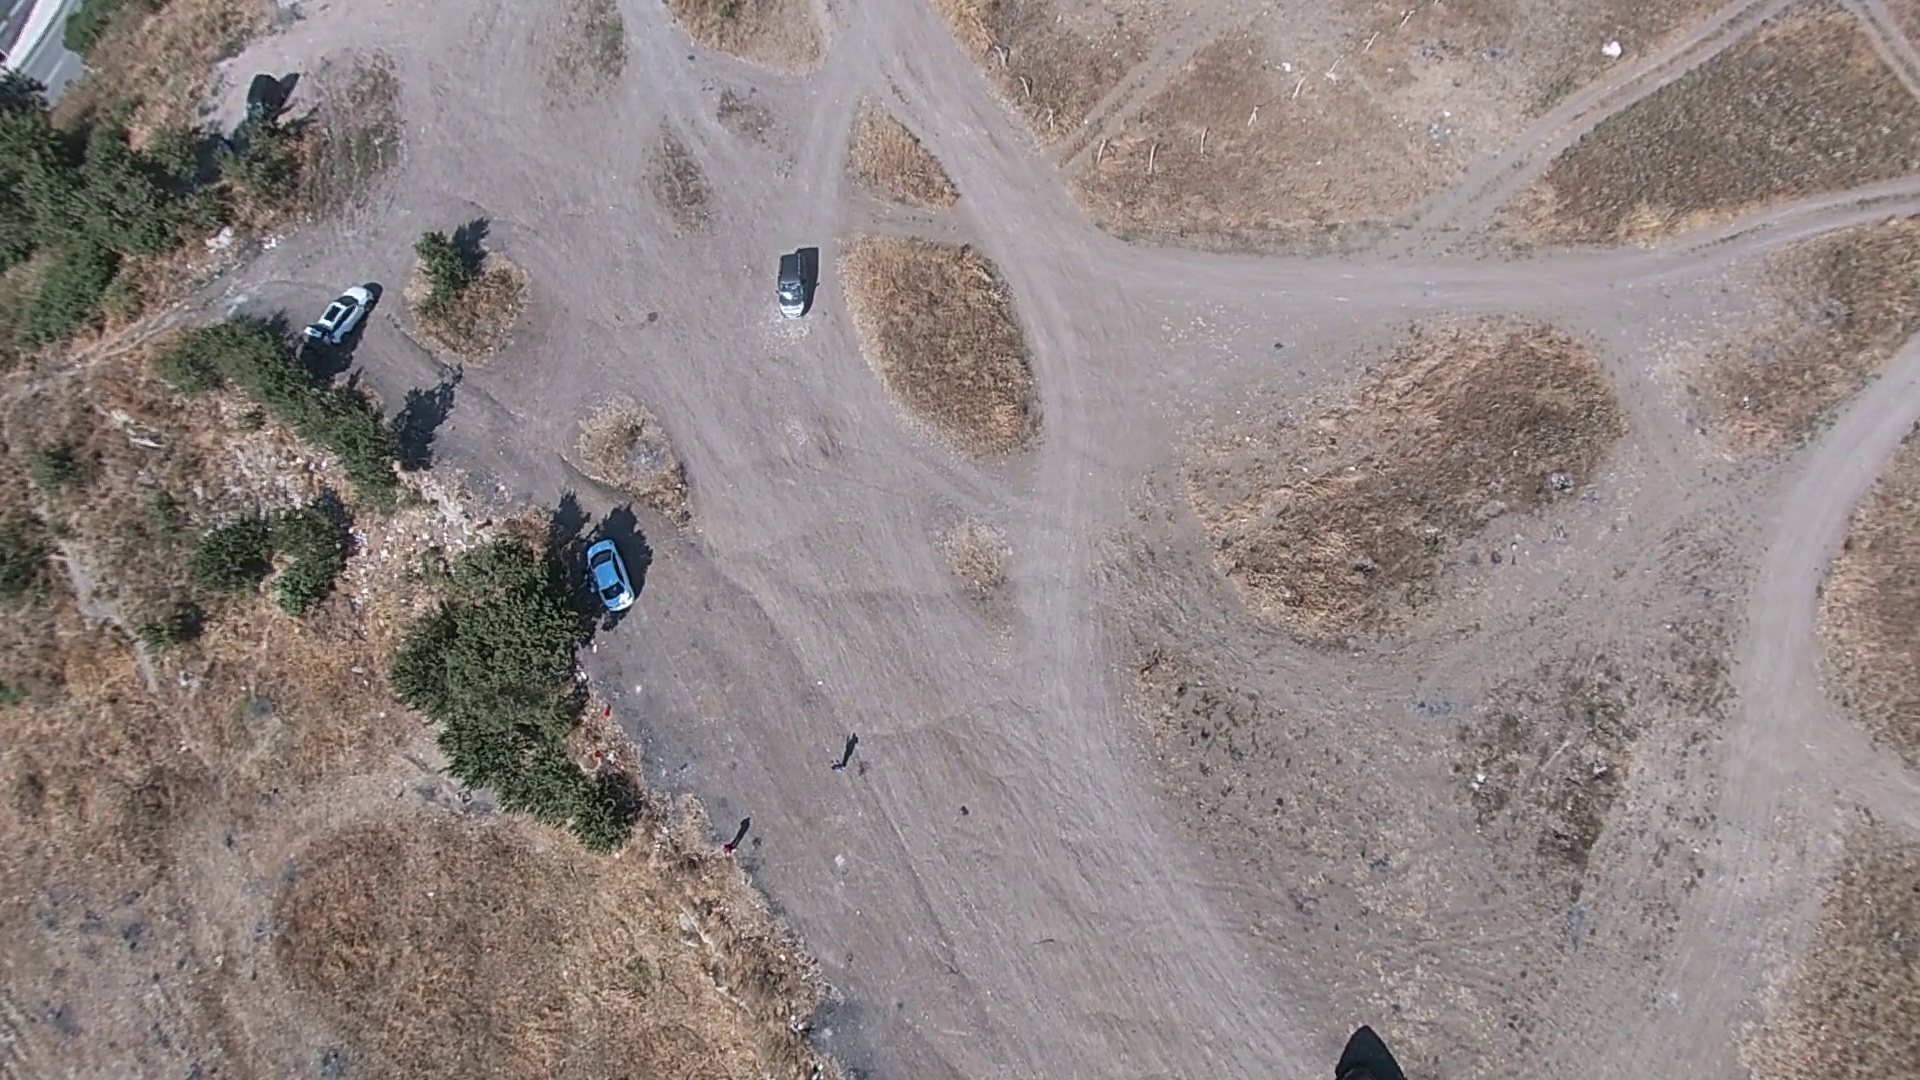arac: (299, 277, 379, 348), (578, 536, 634, 616), (770, 243, 818, 322)
insan: (717, 834, 735, 858), (832, 754, 849, 774)
